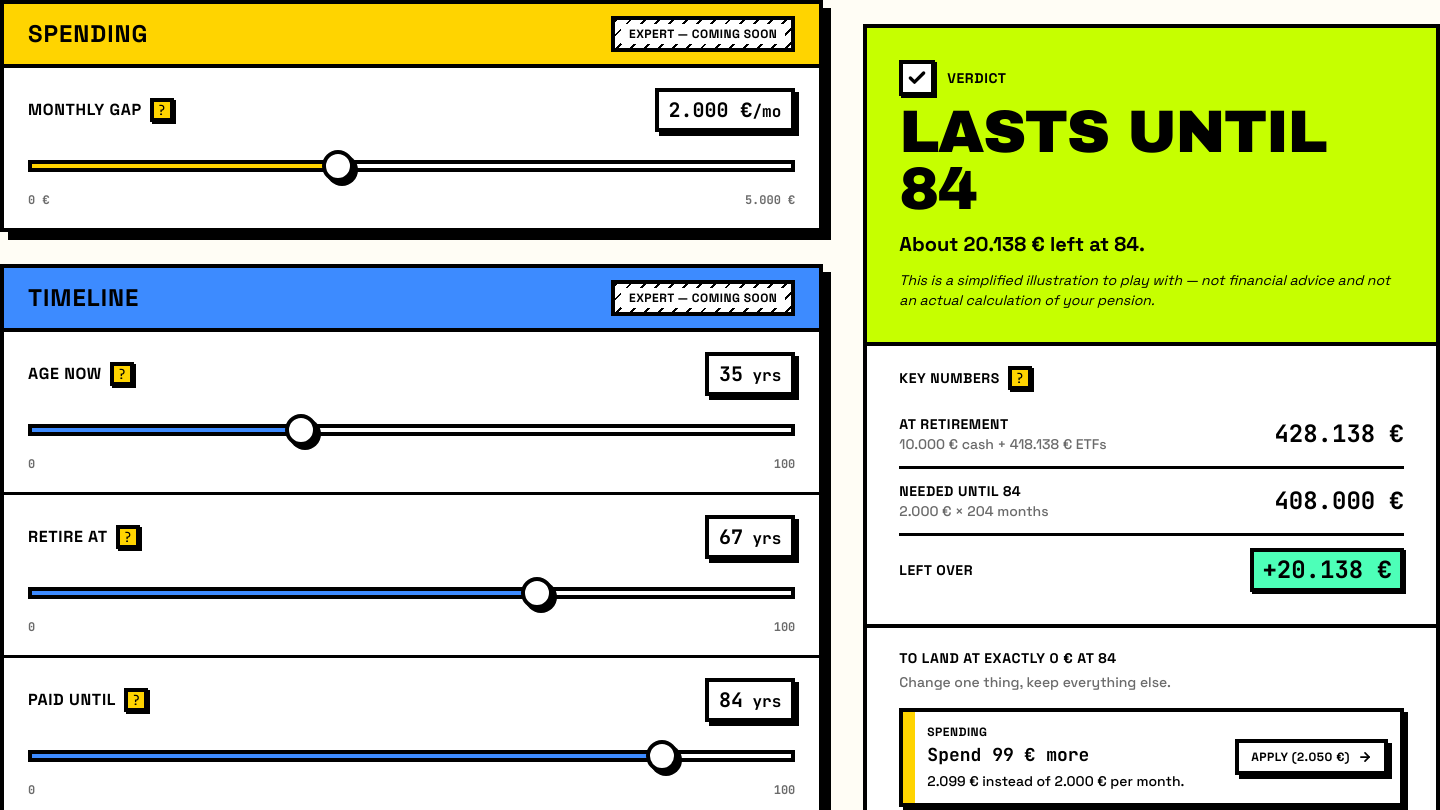
it: Calculator UI › applies the solved monthly gap and lands on a plan that still lasts
expect the element with test id "change-spending" shows "Spend 99 € more": met, box [899,708,1404,806]
Click the button "Apply (2.050 €)".
click(1312, 757)  # box [1235,739,1388,775]
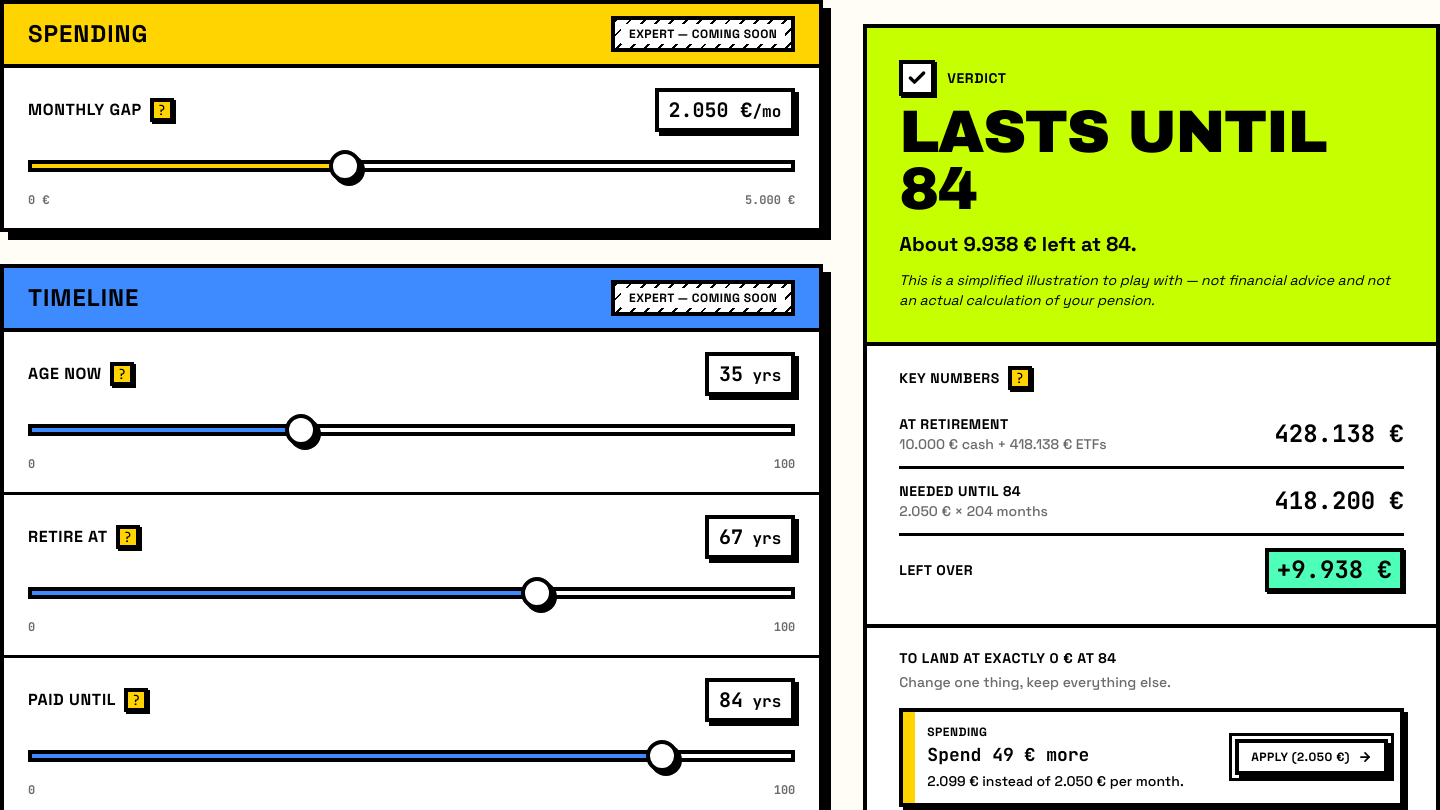
expect the heading with test id "verdict" reads "Lasts until 84": met, box [899,99,1326,222]
expect the element with test id "value-monthlyGap" shows "2.050 €": met, box [668,97,752,123]
